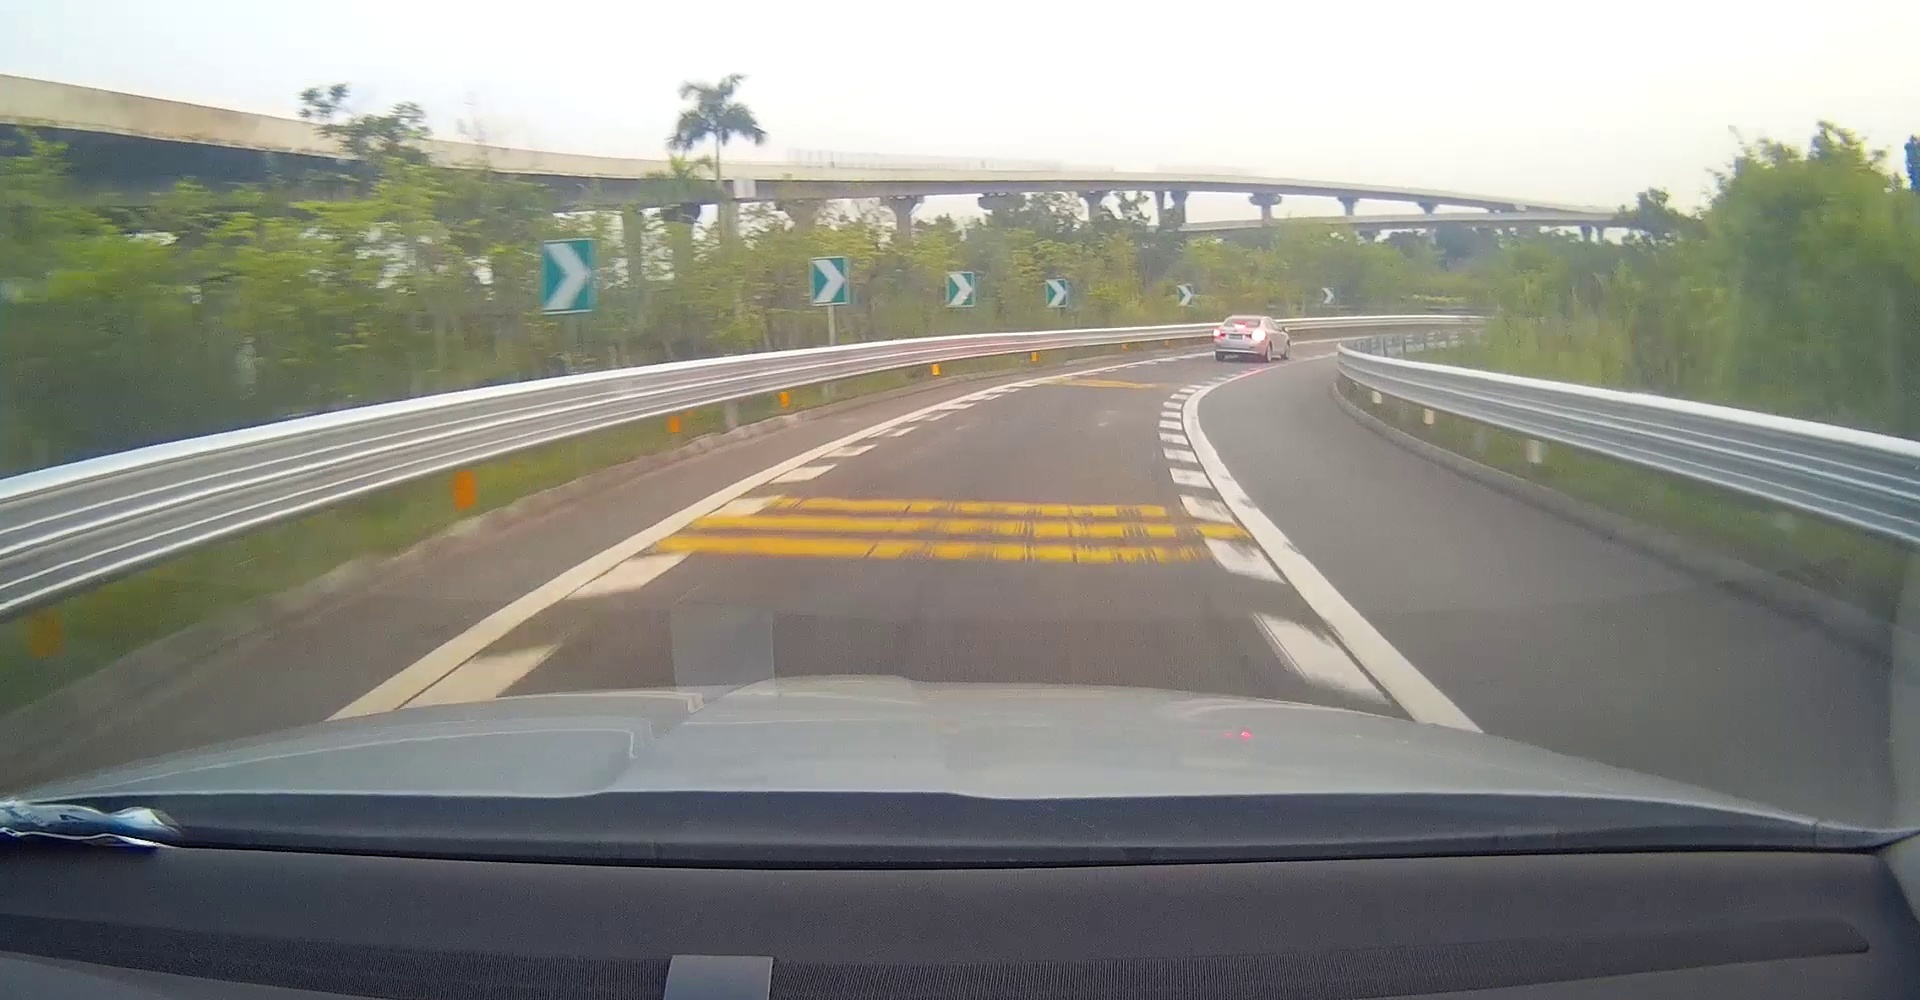L_light: (1213, 329, 1225, 338)
R_light: (1250, 331, 1265, 339)
T_light: (1236, 324, 1246, 329)
day-brake: (1213, 315, 1269, 362)
